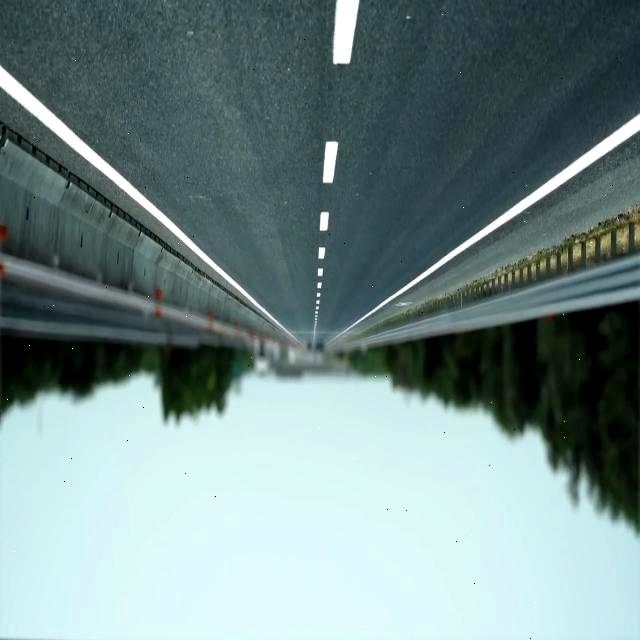lane: (0, 66, 298, 341), (336, 113, 640, 337), (334, 1, 360, 64), (322, 142, 338, 184), (320, 212, 329, 231)
road: (0, 1, 639, 342)
